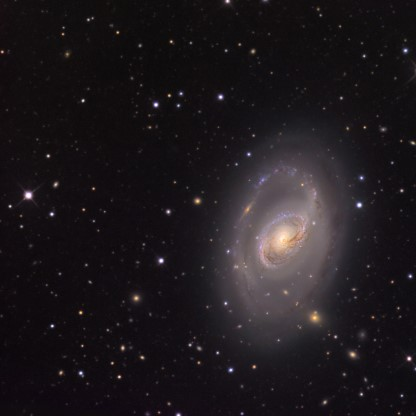Messier 96: (200, 126, 357, 353)
